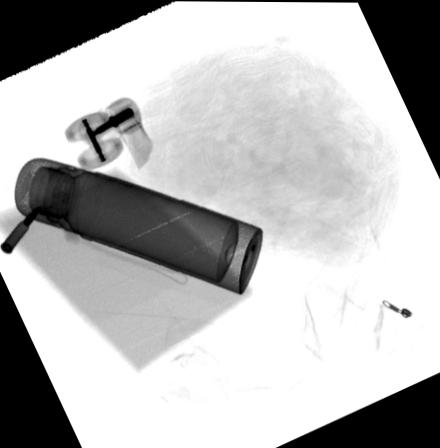Bullet: (0, 201, 42, 254)
